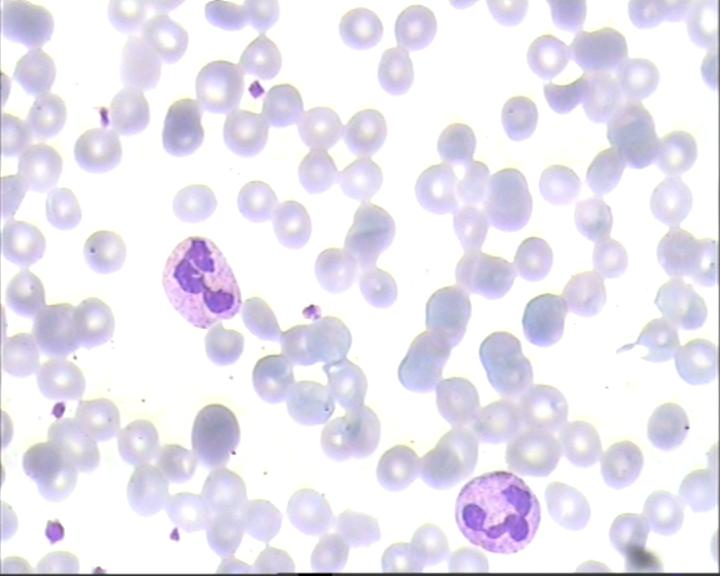neut: (158, 226, 251, 330), (449, 470, 546, 559)
